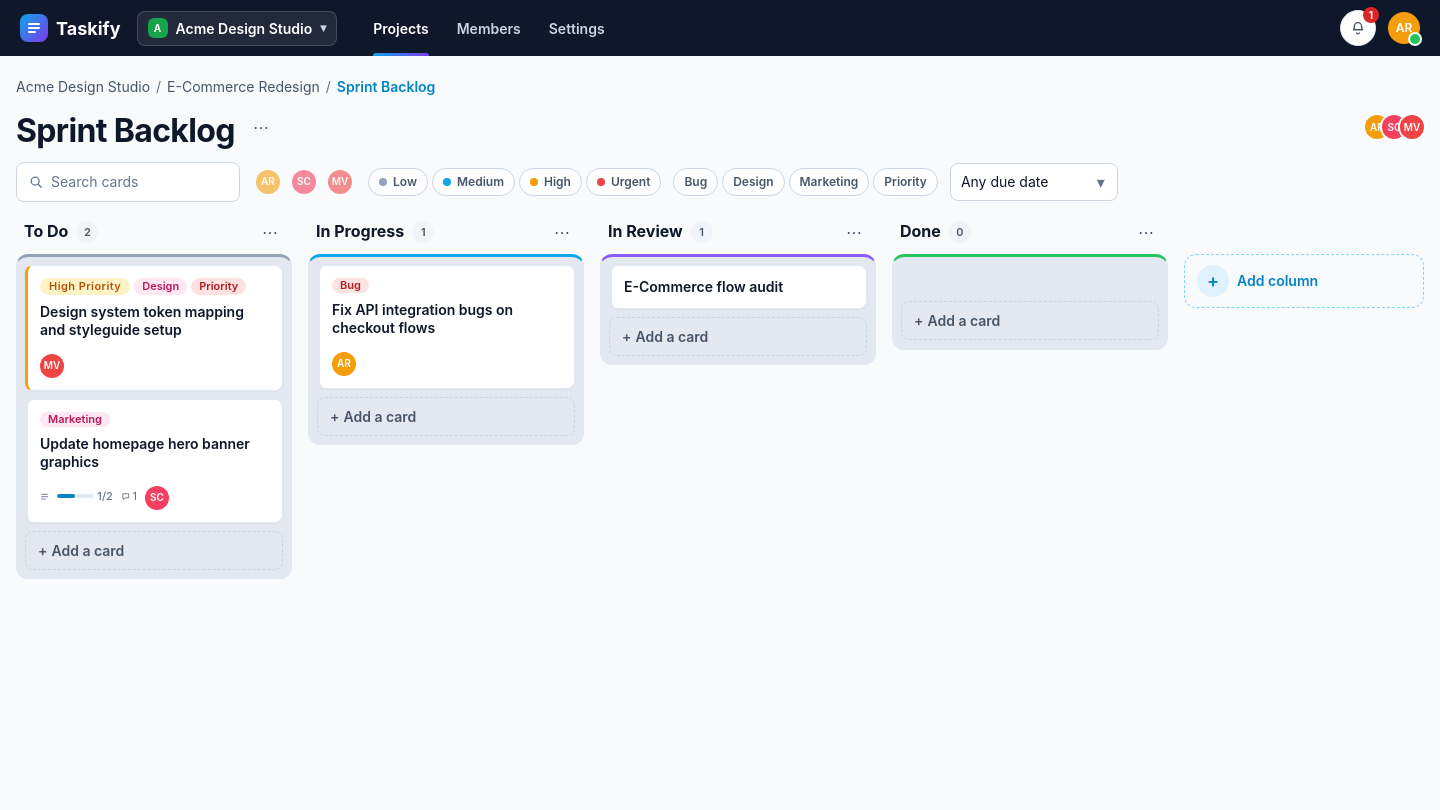
Test: BoardPage › opens a card in the detail modal and closes it
Click the button "Marketing Update homepage hero banner graphics 1/2 1 SC".
click(154, 461)  # box [25,399,283,523]
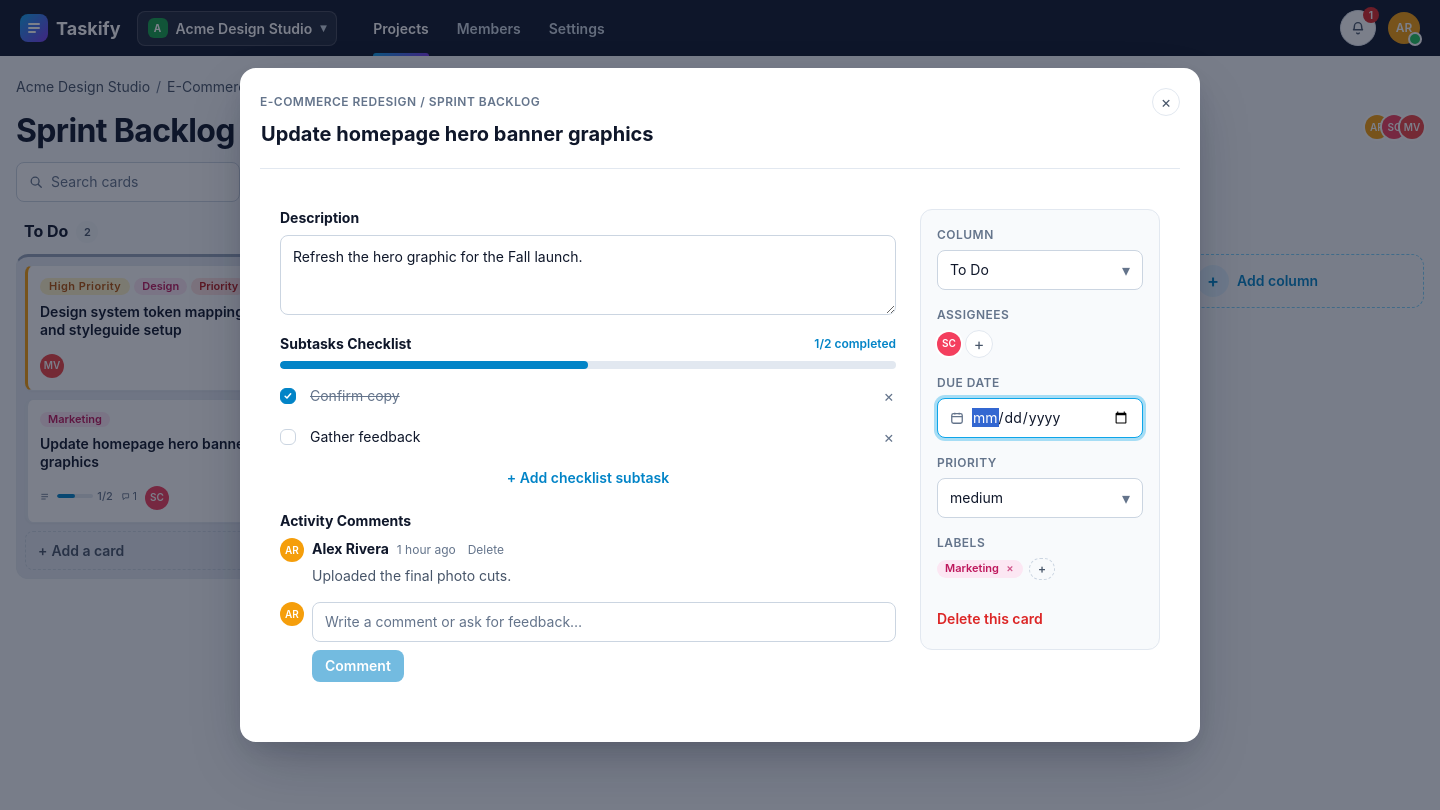
Result: the text "1/2 completed" is shown at [814,335,896,353]
Click the button named "Close".
click(1166, 102)  # box [1152,88,1180,116]
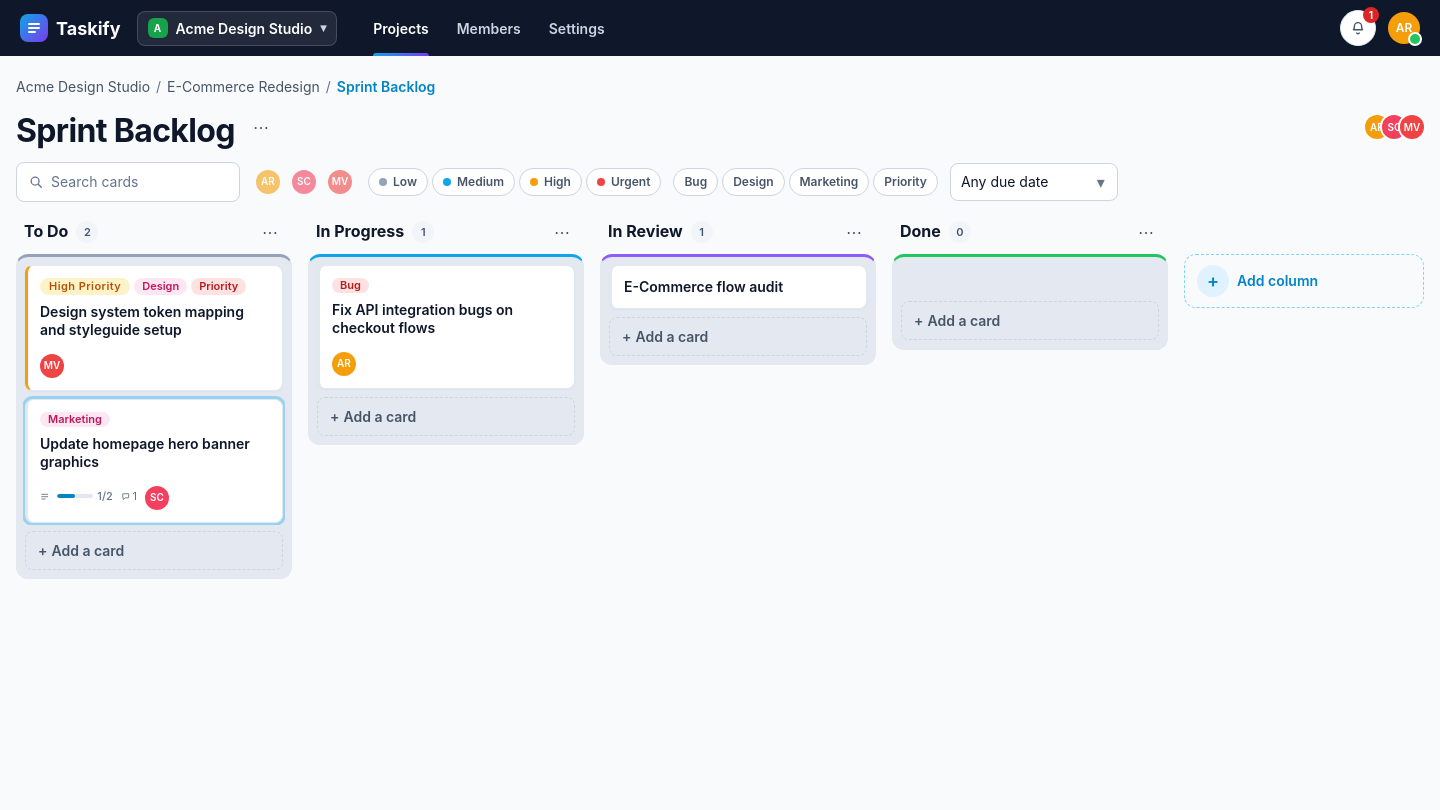
Result: the dialog is gone
